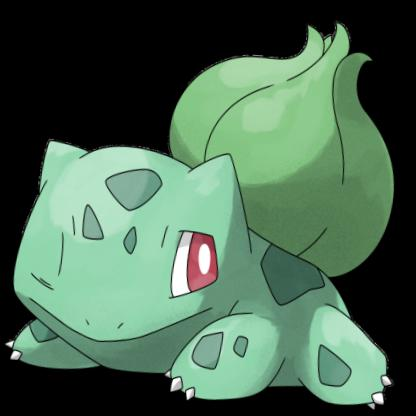Bulbasaur: (14, 4, 416, 416)
